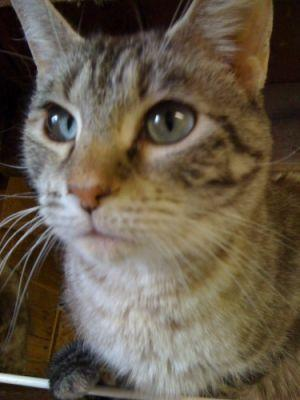bengal: (1, 1, 300, 278)
